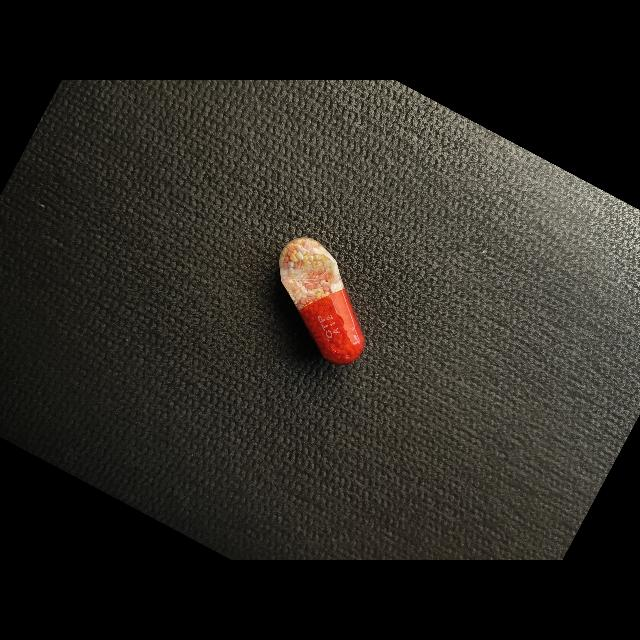Defective Capsule: (279, 237, 364, 364)
